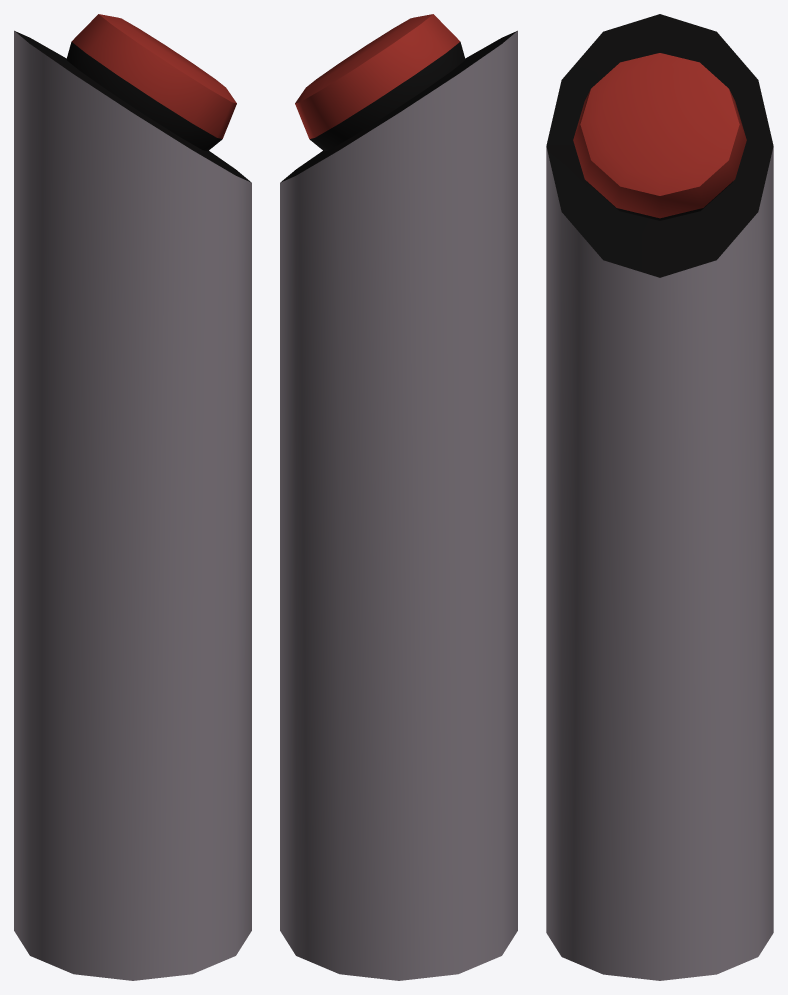
File: Button.fbx
3 views of the same model, side by side, from view 1: azimuth 30°, elevation 25°; view 2: azimuth 150°, elevation 25°; view 3: azimuth 270°, elevation 25° (orthographic). The views are drawn at different scales.
Visible parts, largest first — view 1: Button; view 2: Button; view 3: Button.
Part boxes in pixels (x1,y1,x2,y2): Button: (14, 14, 251, 980); Button: (280, 14, 517, 980); Button: (546, 14, 773, 980).
Size of the model in its own units: 0.5557 by 2.35 by 0.5557.
